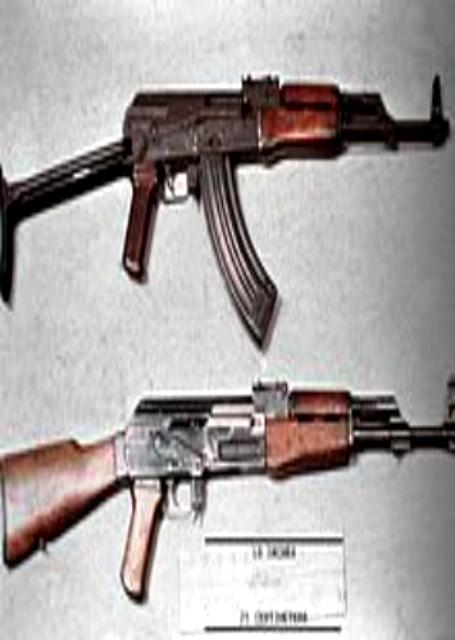rifle: (0, 72, 455, 346), (2, 360, 454, 602)
